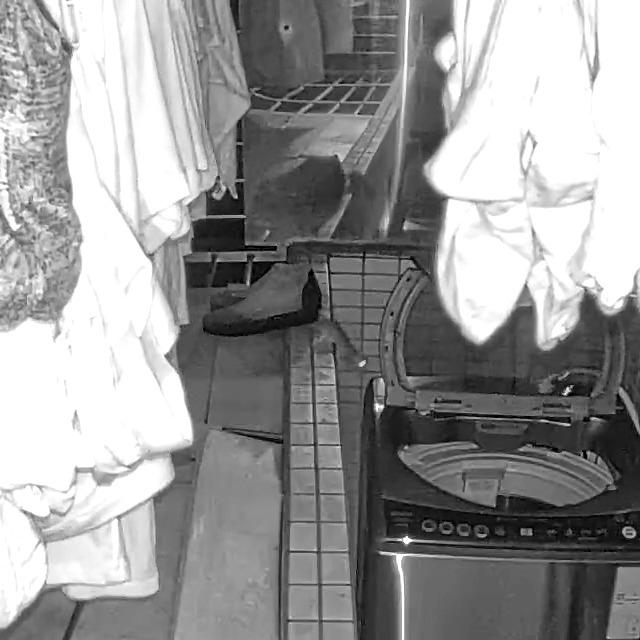rat: (309, 317, 369, 371)
